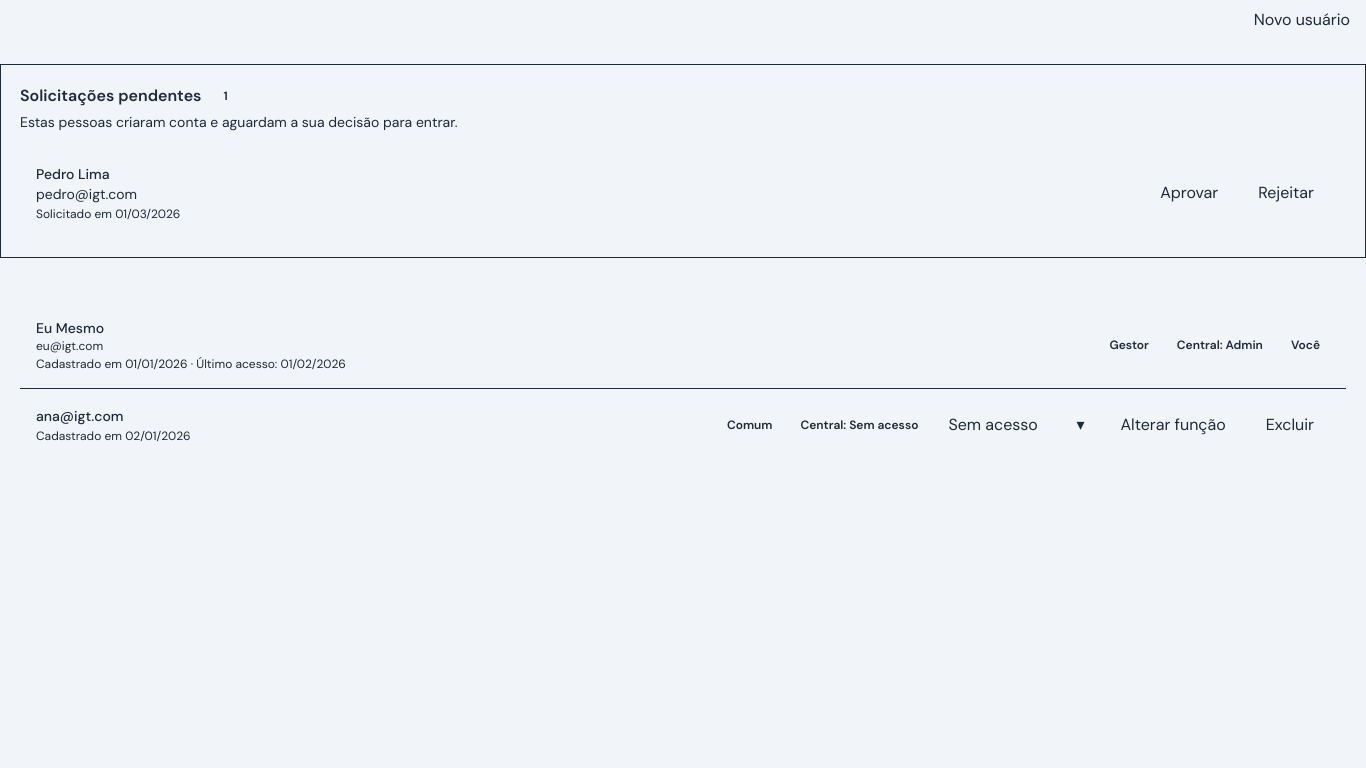
Test: Usuários e acessos › cria usuário com POST de e-mail, senha e função
Expected: the list named "Usuários com acesso" is shown, [20,302,1346,461]
Click the button "Novo usuário". click: [1302, 20]
box: [1238,0,1365,40]
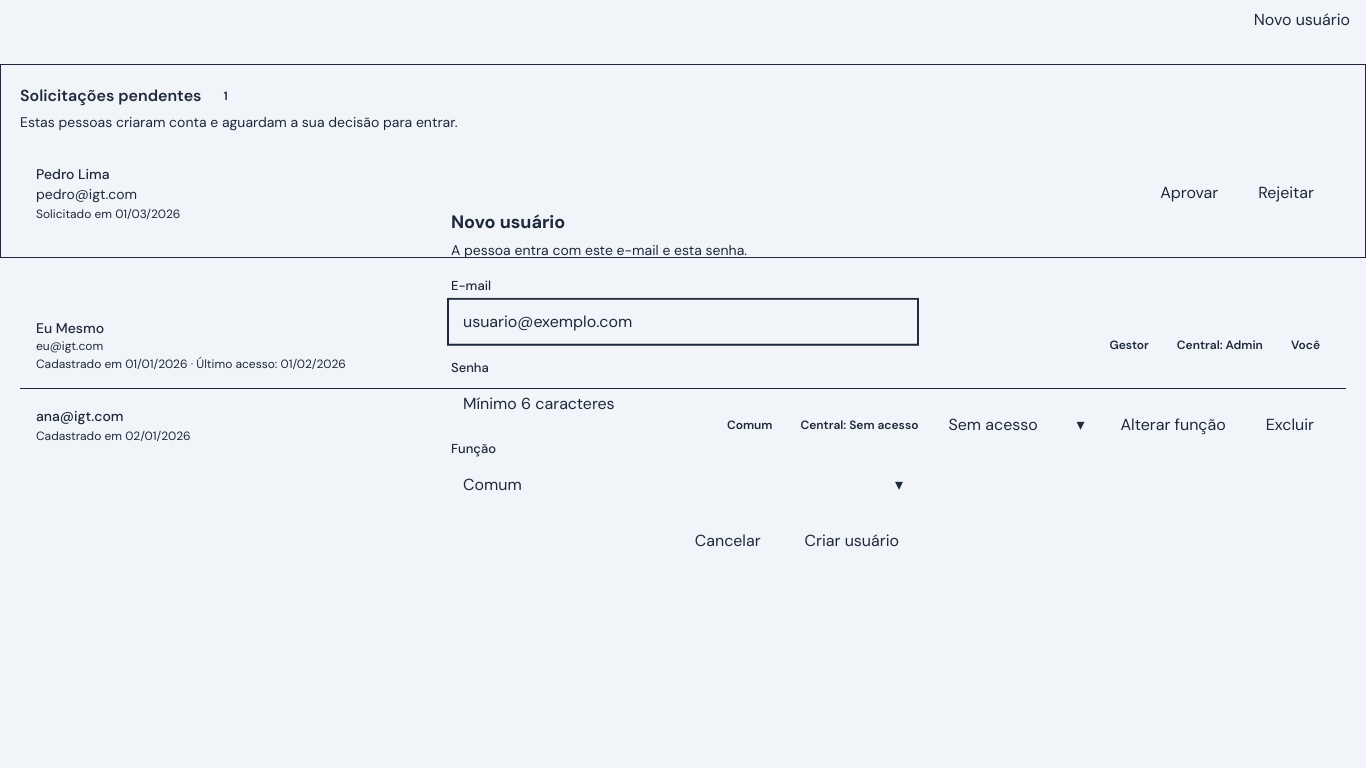
Type "novo@igt.com" into the field labelled "E-mail". click: [683, 321]
box: [451,301,915,341]
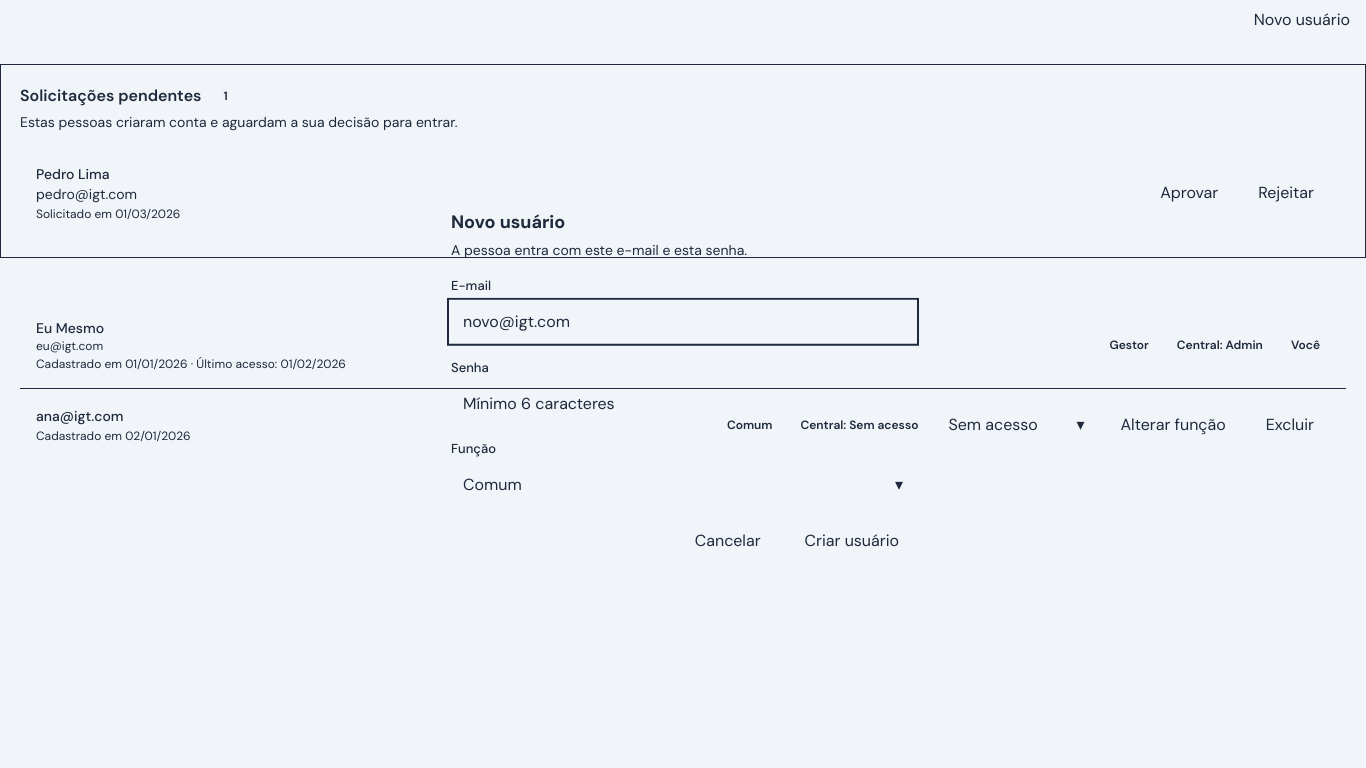
Type "segredo123" into the password field labelled "Senha". click: [683, 403]
box: [451,383,915,423]
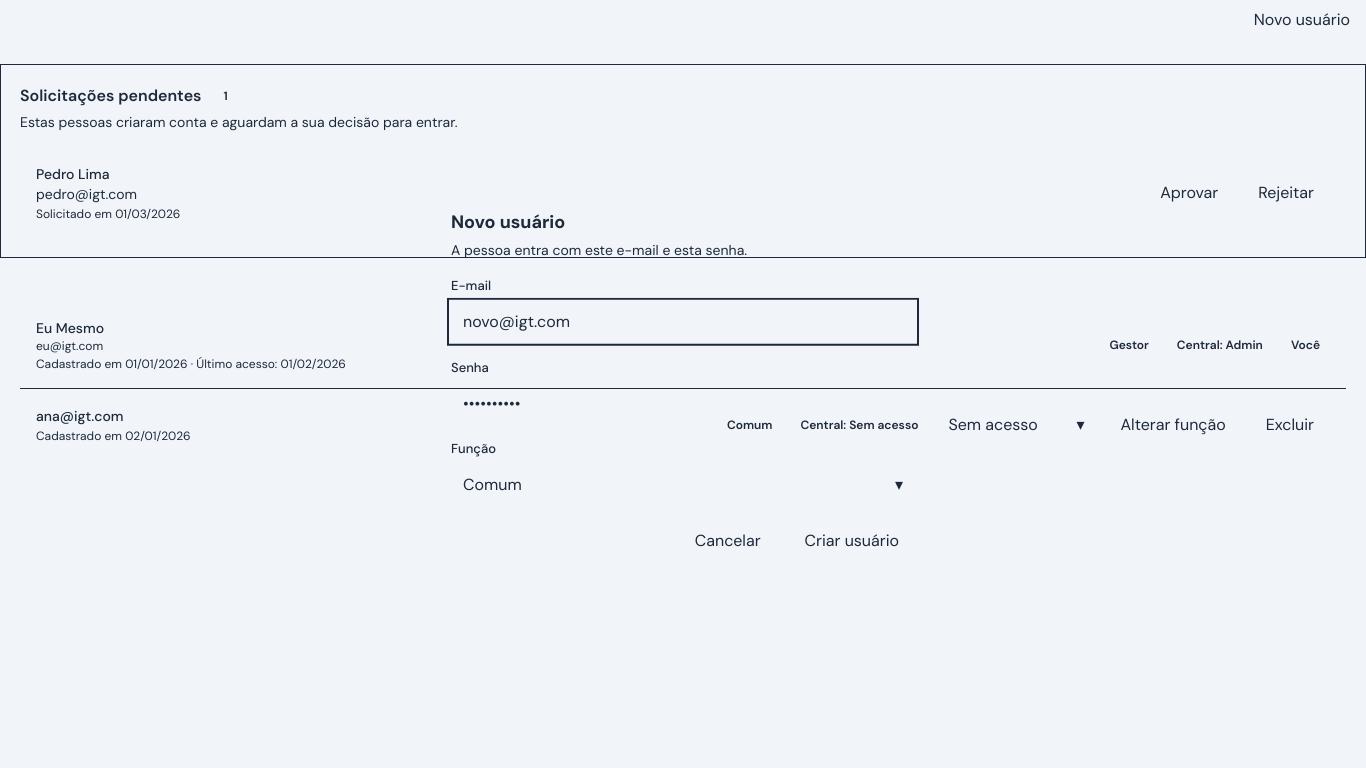
Press Enter in the dropdown named "Função", box [451,464,915,504]
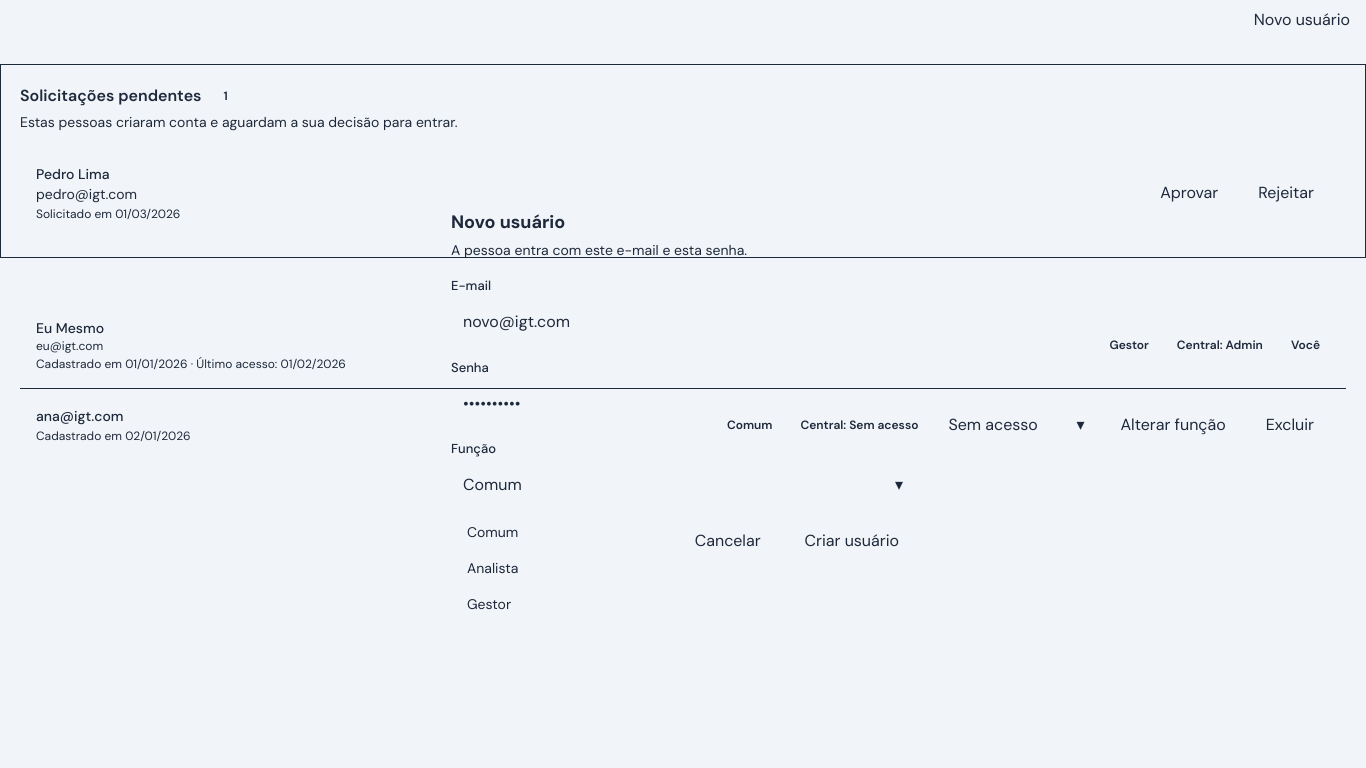
Click the option "Analista". click: [493, 568]
box: [467,559,518,577]
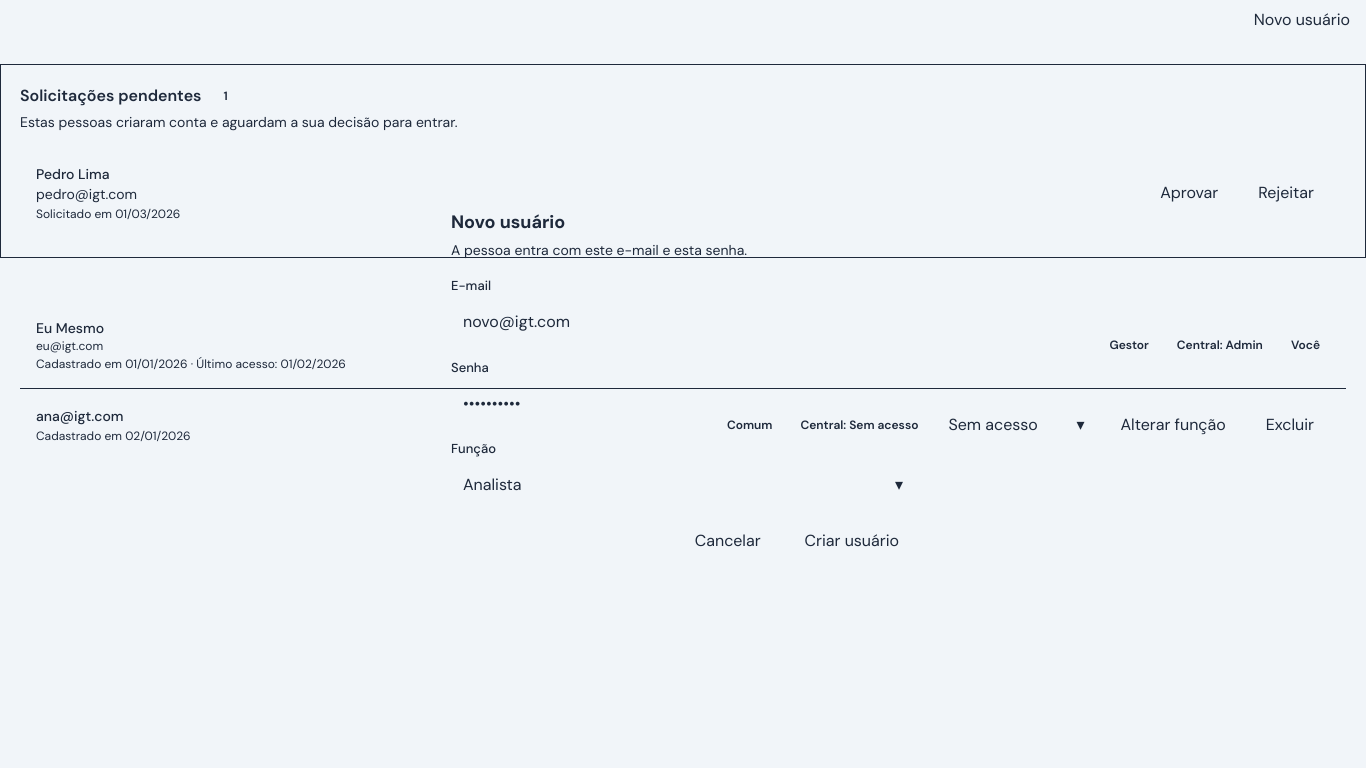
Click the button "Criar usuário". click: [852, 540]
box: [789,520,915,560]
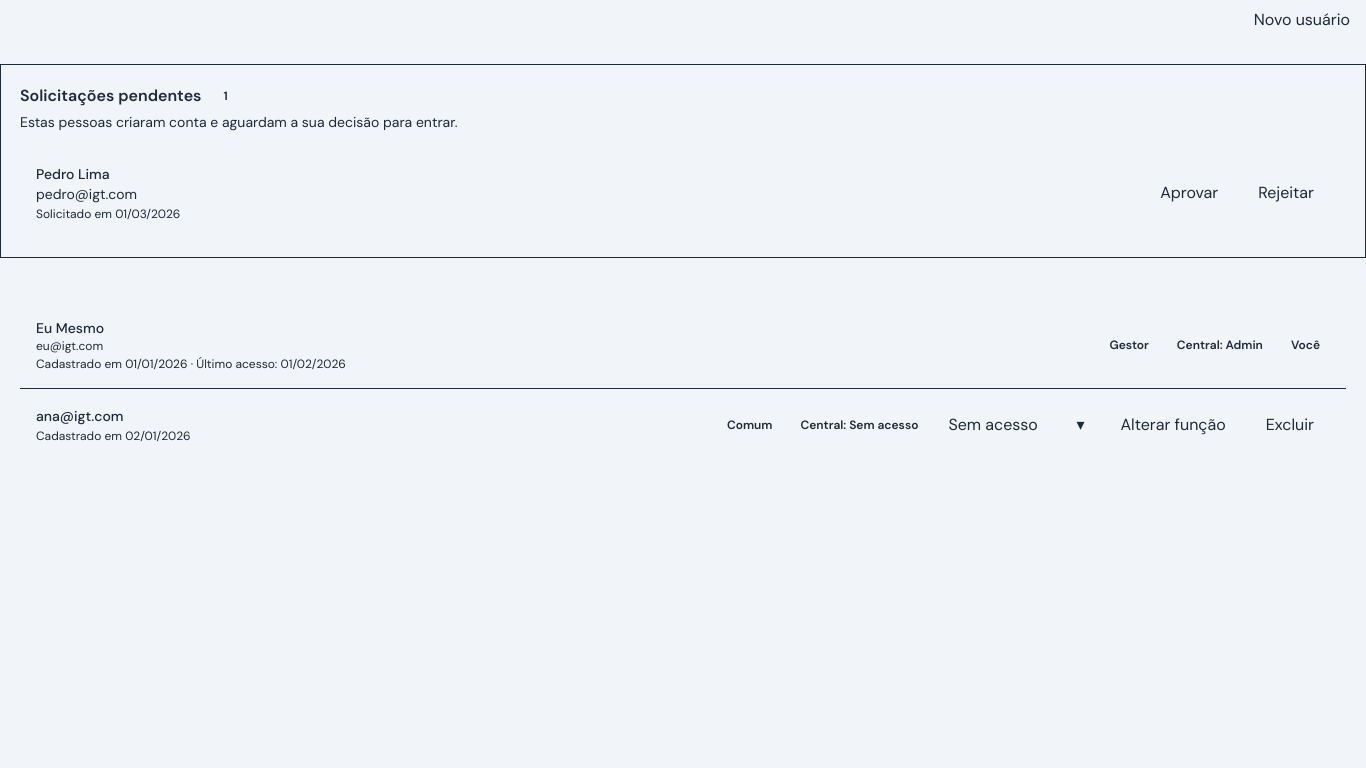
Expected: the dialog is gone
